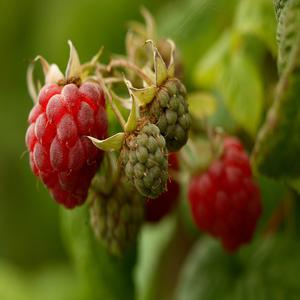raspb: (15, 42, 262, 256)
